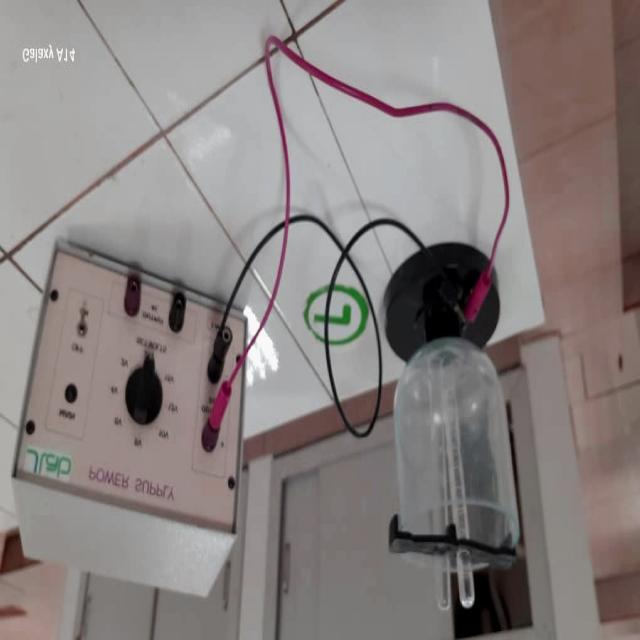Electrolyzer: (381, 247, 526, 606)
